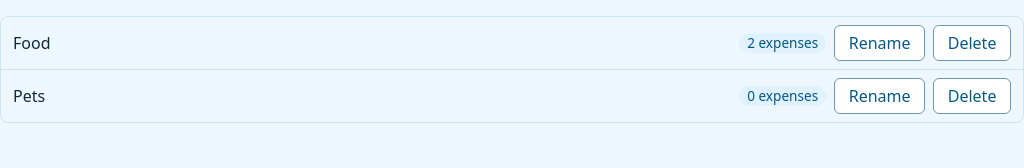
keeps editing and shows the error when rename fails
Click the button with aria-label "Rename Pets" at (880, 96), box [834,78,925,114]
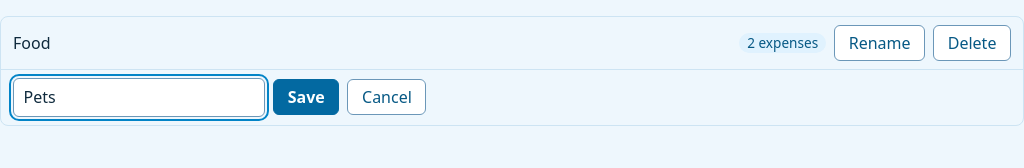
Replace the text in the field with "food" at (139, 97), box [13,78,265,117]
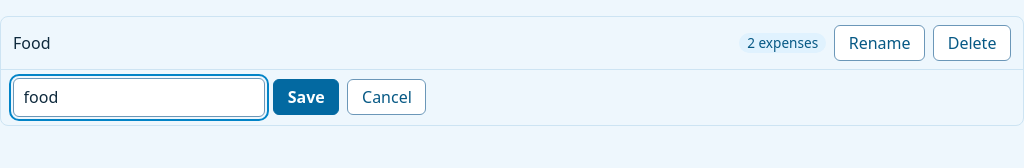
Click the button "Save" at (306, 97), box [273,79,339,115]
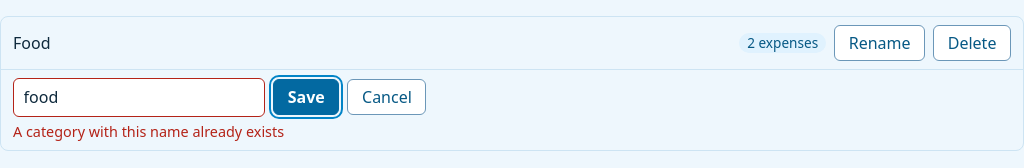
Expected: the message reads "A category with this name already exists", [13,122,284,141]
